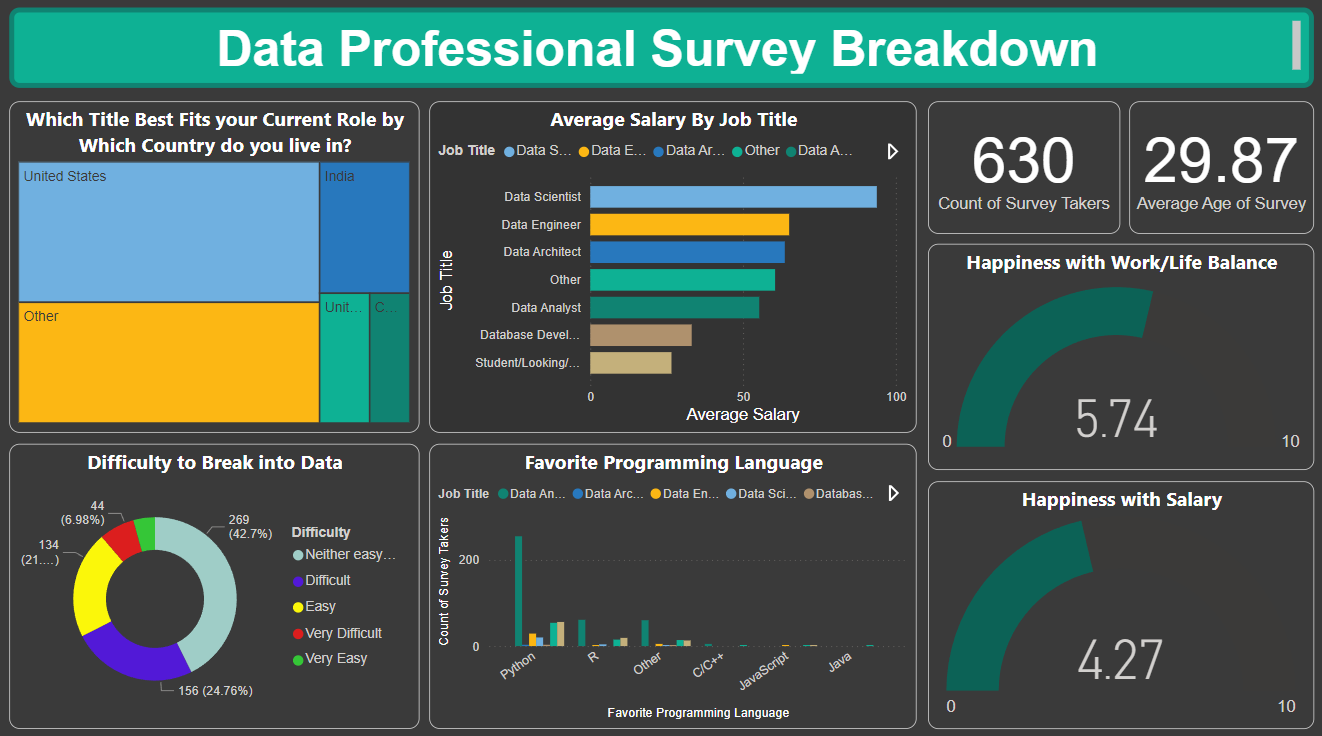

The dashboard page shown, as its layout file describes it:
{"tool":"powerbi","page":{"name":"Page 1","canvas":[1280,720],"ordinal":0},"visuals":[{"type":"textbox","box":[10.9,12.1,1259.5,77.2],"z":0},{"type":"card","fields":{"Values":["Count(Data Professional Survey.Unique ID)"]},"box":[897.6,102.5,185.8,127.9],"z":1000},{"type":"card","fields":{"Values":["Avg(Data Professional Survey.Q10 - Current Age)"]},"box":[1091.8,102.5,178.6,127.9],"z":2000},{"type":"barChart","title":"Average Salary By Job Title","fields":{"Category":["Data Professional Survey.Q1 - Which Title Best Fits your Current Role?.1"],"Y":["Avg(Data Professional Survey.Average Salary)"],"Series":["Data Professional Survey.Q1 - Which Title Best Fits your Current Role?.1"]},"box":[416.2,102.5,470.5,319.7],"z":3000},{"type":"clusteredColumnChart","title":"Favorite Programming Language","fields":{"Category":["Data Professional Survey.Q5 - Favorite Programming Language.1"],"Y":["CountNonNull(Data Professional Survey.Unique ID)"],"Series":["Data Professional Survey.Q1 - Which Title Best Fits your Current Role?.1"]},"box":[416.2,433.1,470.5,275.1],"z":4000},{"type":"treemap","title":"Which Title Best Fits your Current Role by Which Country do you live in?","fields":{"Group":["Data Professional Survey.Q11 - Which Country do you live in?.1"],"Values":["CountNonNull(Data Professional Survey.Q1 - Which Title Best Fits your Current Role?.1)"]},"box":[10.9,102.5,395.7,319.7],"z":5000},{"type":"gauge","title":"Happiness with Work/Life Balance","fields":{"Y":["Avg(Data Professional Survey.Q6 - How Happy are you in your Current Position with the following? (Work/Life Balance))"],"MinValue":["Min(Data Professional Survey.Q6 - How Happy are you in your Current Position with the following? (Work/Life Balance))1"],"MaxValue":["Max(Data Professional Survey.Q6 - How Happy are you in your Current Position with the following? (Work/Life Balance))2"]},"box":[897.6,240.1,372.8,218.4],"z":6000},{"type":"gauge","title":"Happiness with Salary","fields":{"Y":["Avg(Data Professional Survey.Q6 - How Happy are you in your Current Position with the following? (Salary))"],"MinValue":["Min(Data Professional Survey.Q6 - How Happy are you in your Current Position with the following? (Salary))1"],"MaxValue":["Max(Data Professional Survey.Q6 - How Happy are you in your Current Position with the following? (Salary))2"]},"box":[897.6,469.3,372.8,238.9],"z":7000},{"type":"donutChart","title":"Difficulty to Break into Data","fields":{"Category":["Data Professional Survey.Q7 - How difficult was it for you to break into Data?"],"Y":["CountNonNull(Data Professional Survey.Q7 - How difficult was it for you to break into Data?)"]},"box":[10.9,433.1,395.7,275.1],"z":8000}]}

Visuals, with their boxes in screenshot pixels (x1, y1, x2, y2), scaled from the page's 1280x720 canvas onto the 1322x736 screenshot:
textbox: [left=11, top=12, right=1312, bottom=91]
card - Count(Data Professional Survey.Unique ID): [left=927, top=105, right=1119, bottom=236]
card - Avg(Data Professional Survey.Q10 - Current Age): [left=1128, top=105, right=1312, bottom=236]
"Average Salary By Job Title" barChart: [left=430, top=105, right=916, bottom=432]
"Favorite Programming Language" clusteredColumnChart: [left=430, top=443, right=916, bottom=724]
"Which Title Best Fits your Current Role by Which Country do you live in?" treemap: [left=11, top=105, right=420, bottom=432]
"Happiness with Work/Life Balance" gauge: [left=927, top=245, right=1312, bottom=469]
"Happiness with Salary" gauge: [left=927, top=480, right=1312, bottom=724]
"Difficulty to Break into Data" donutChart: [left=11, top=443, right=420, bottom=724]
